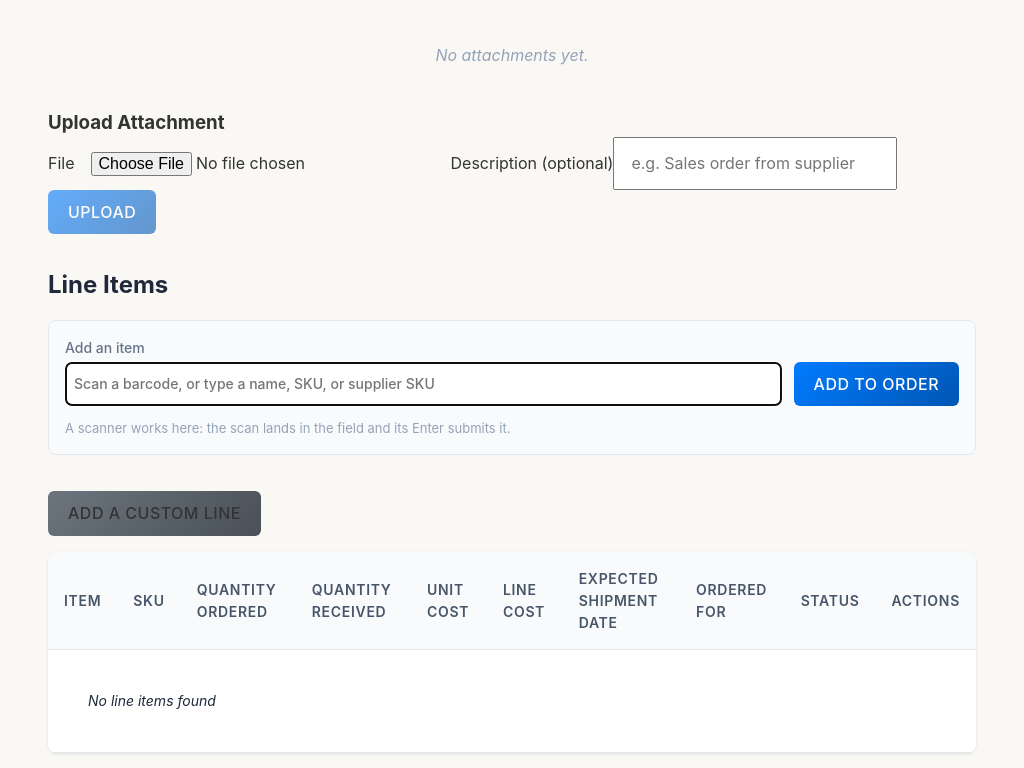
PurchaseOrderPage — adding a line to a draft order › candidate buttons look like the page’s own submit control
(page scrolled)
Type "M3 hex" into the field labelled "Add an item" at (423, 384), box [65,362,782,406]
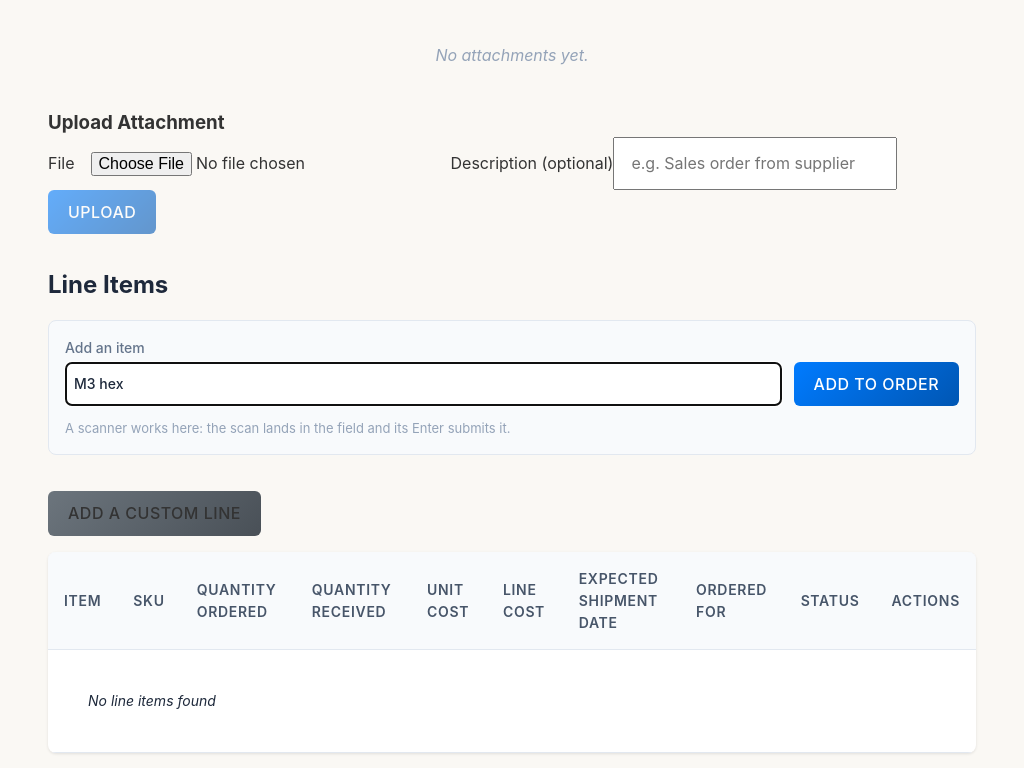
Submit the form labelled "Add an item", box [48,320,976,455]
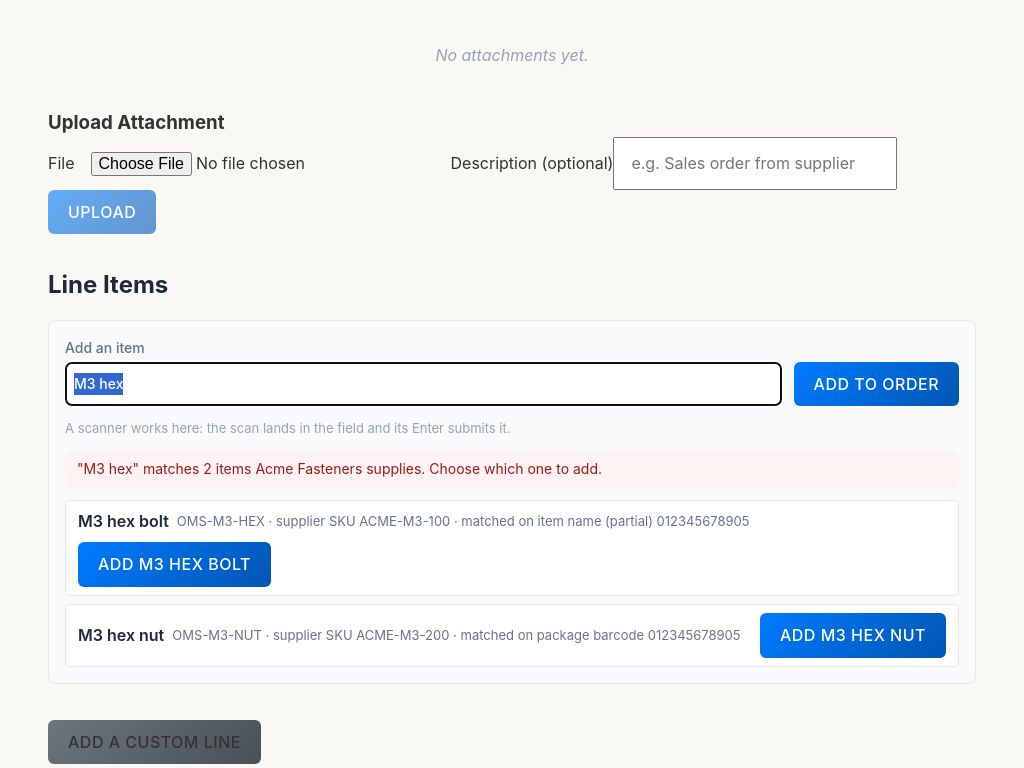
Expected: the button "Add M3 hex nut" is shown, [760,613,946,658]
